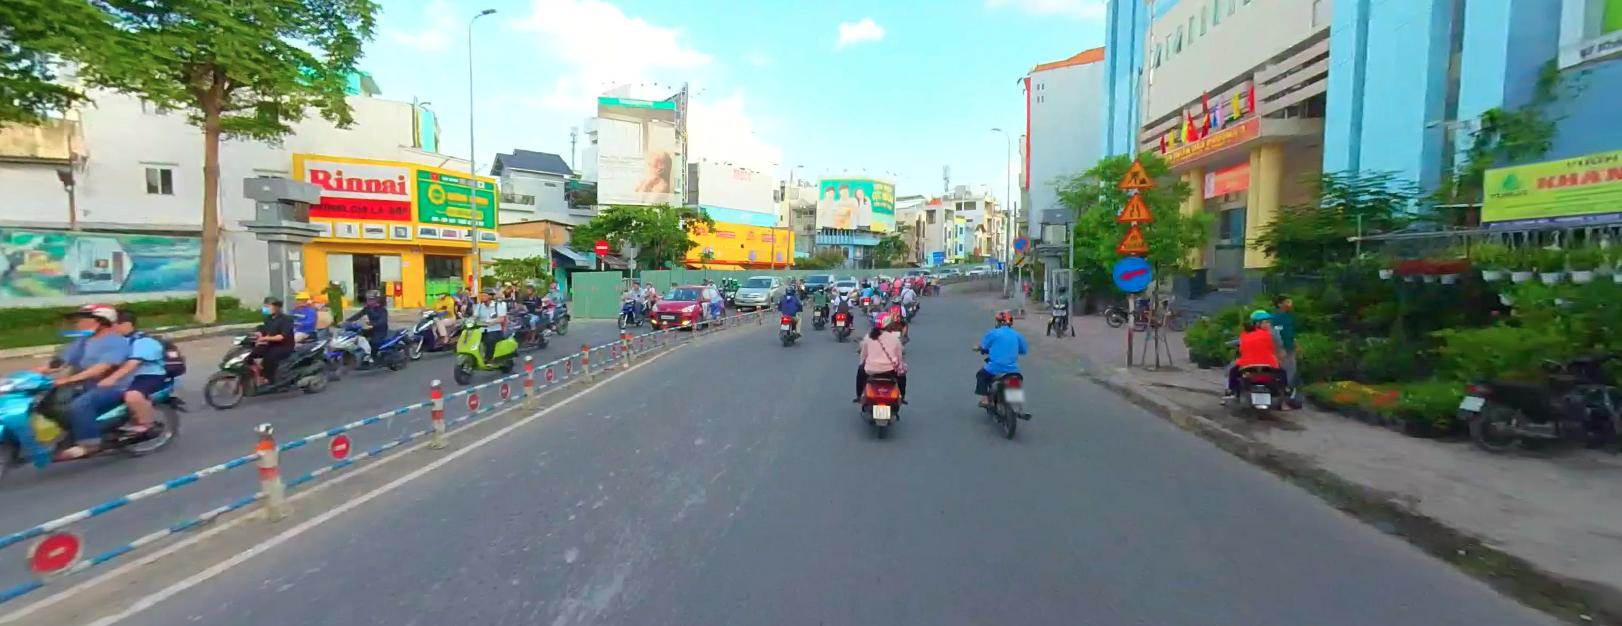Cam dung va do: (1013, 235, 1029, 250)
Cam nguoc chieu: (593, 237, 609, 254)
Hieu lenh: (1112, 254, 1154, 289)
Nguy hiem: (1116, 157, 1157, 187), (1116, 190, 1155, 220), (1115, 222, 1151, 252)
